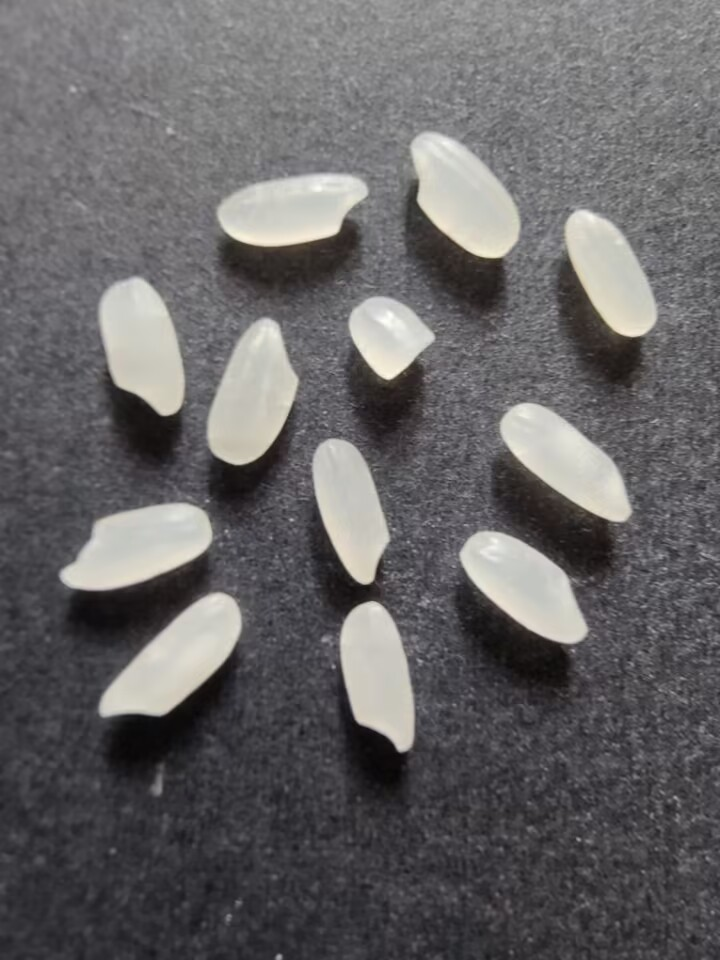broken: (344, 293, 442, 386)
rice: (95, 586, 246, 725), (497, 400, 632, 530), (405, 124, 521, 263), (456, 526, 588, 647), (56, 496, 217, 594), (203, 309, 303, 465), (335, 597, 421, 757), (96, 274, 188, 423), (561, 204, 660, 340), (309, 433, 392, 589), (212, 172, 371, 247)
